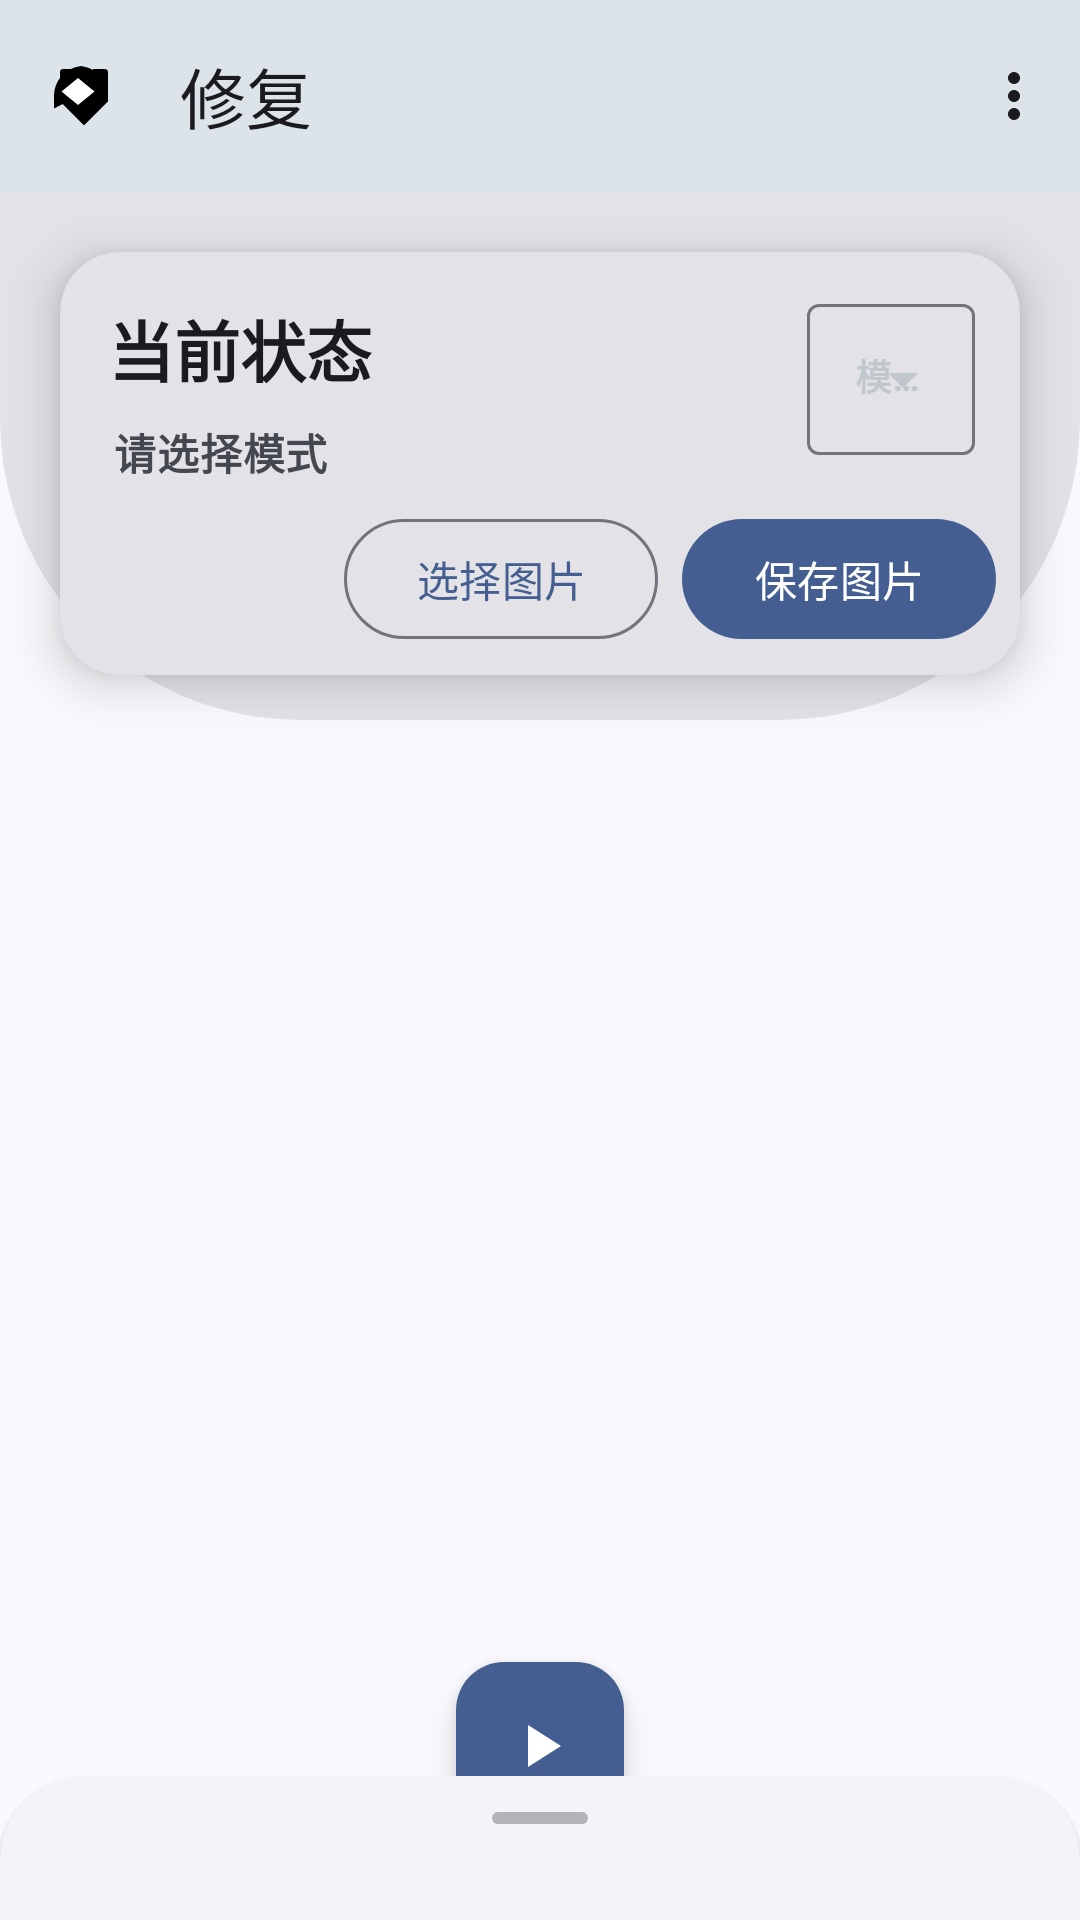

Named icons in this screenshot (1080px×1920px) and their bounding boxes, (x1, y1, x2, y2):
triangle start: (456, 1662, 624, 1824)
